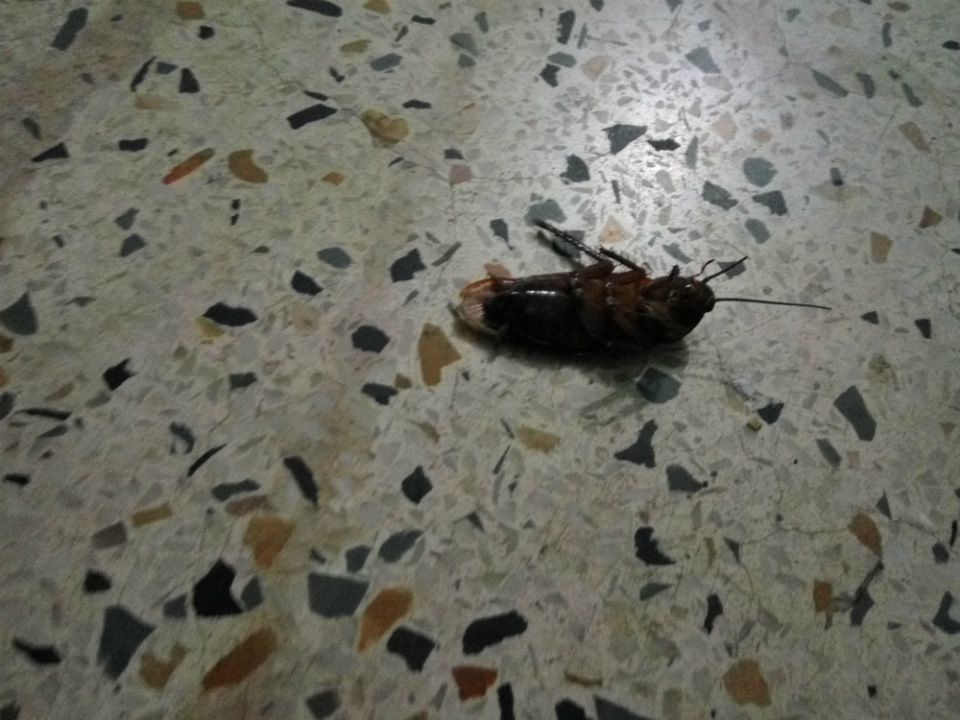cockroach: (399, 189, 895, 431)
